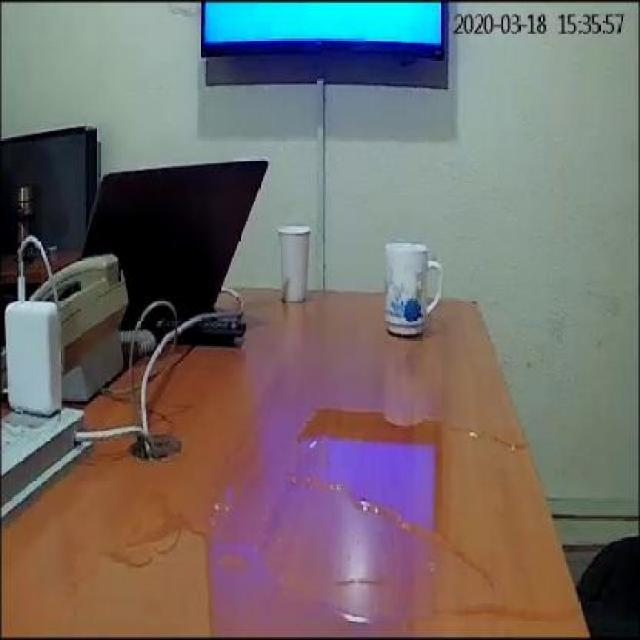spill: (298, 402, 582, 616), (80, 514, 405, 638)
